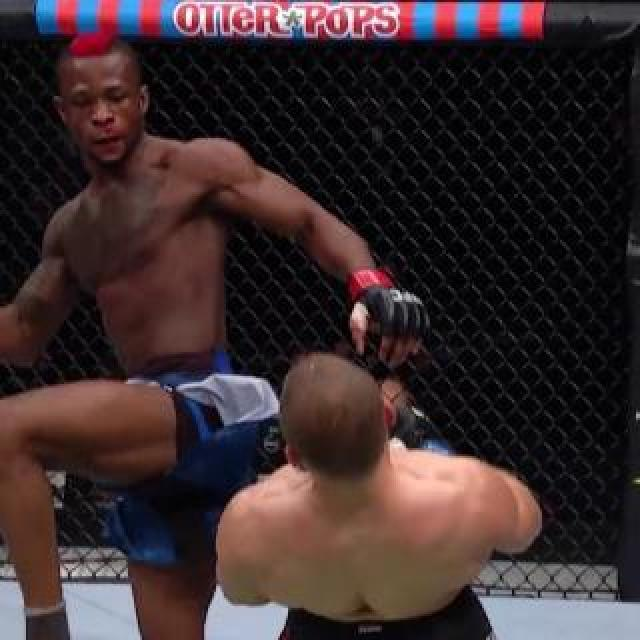fight: (0, 28, 516, 640)
